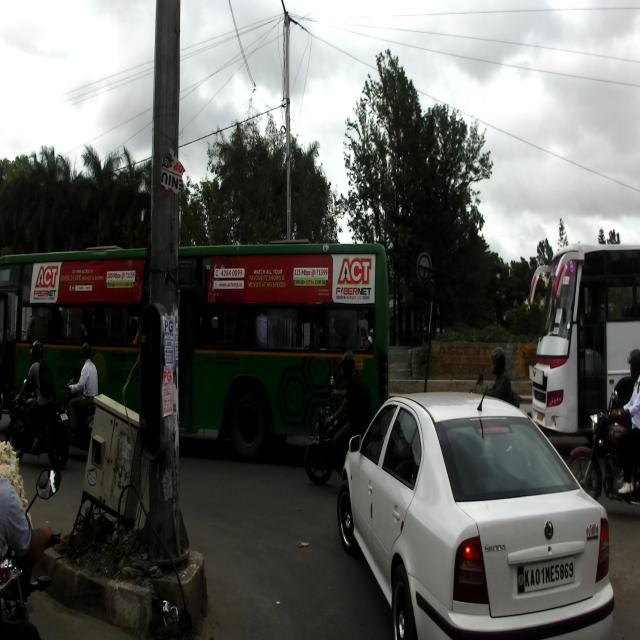Car_Skoda: (337, 382, 616, 638)
bus: (0, 240, 388, 458), (526, 242, 638, 451)
motorcycle_RoyalEnfield: (563, 388, 639, 505)
motorcycle_Yamaha: (6, 376, 70, 472), (305, 374, 344, 490)
